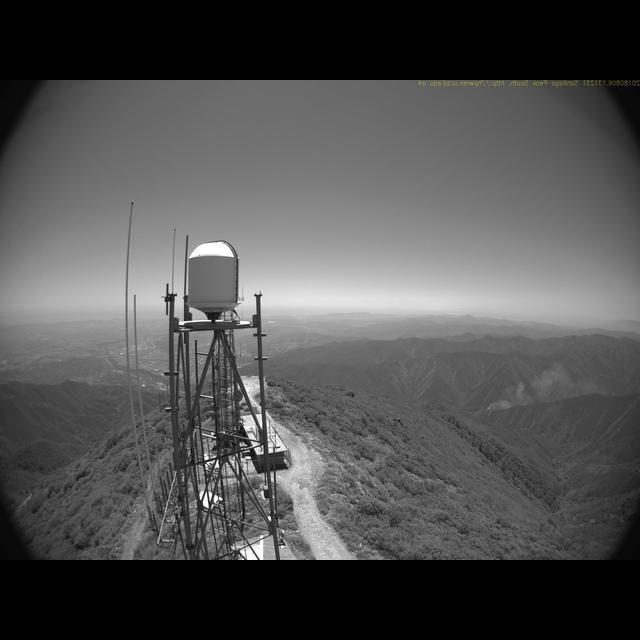Smoke: (484, 351, 623, 413)
